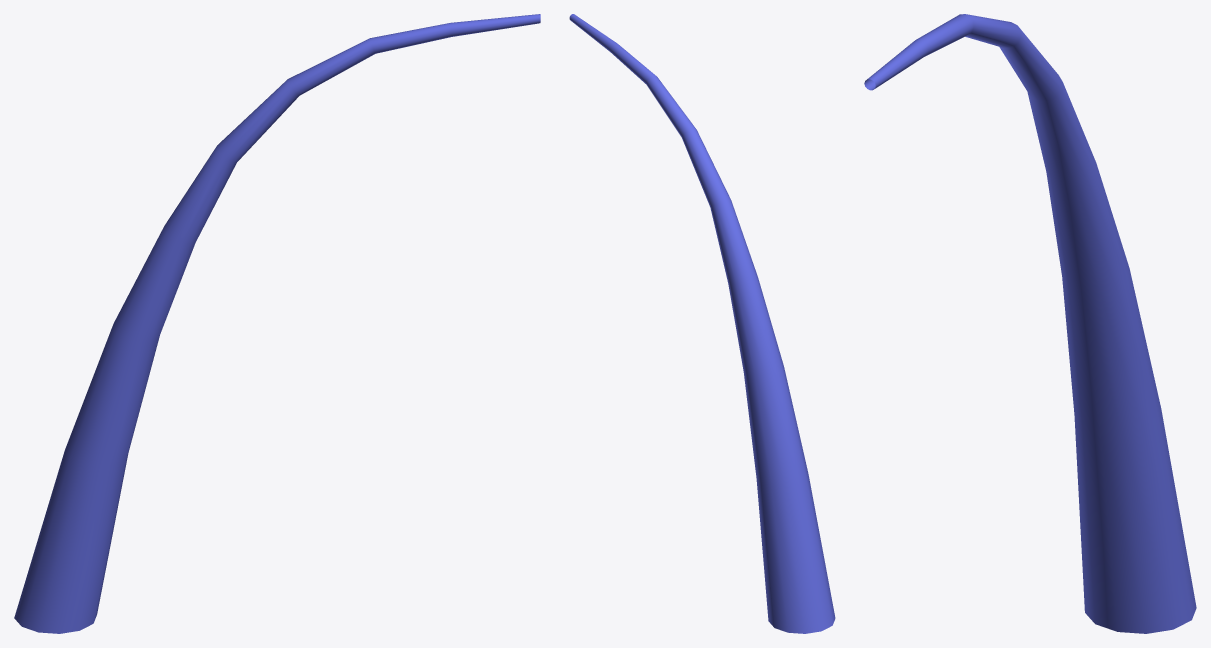
The model's file is dragonCylinder_010.fbx.
3 renders of one model, left to right at view 1: azimuth 30°, elevation 25°; view 2: azimuth 150°, elevation 25°; view 3: azimuth 270°, elevation 25°, orthographic. The views are drawn at different scales.
Visible parts, largest first — view 1: Cylinder.010; view 2: Cylinder.010; view 3: Cylinder.010.
Boxes of the visible parts, box(x1,y1,x2,y2) form: Cylinder.010: box(14, 14, 540, 633); Cylinder.010: box(569, 14, 835, 633); Cylinder.010: box(864, 14, 1196, 633).
Size of the model in its own units: 525 by 692 by 266.
